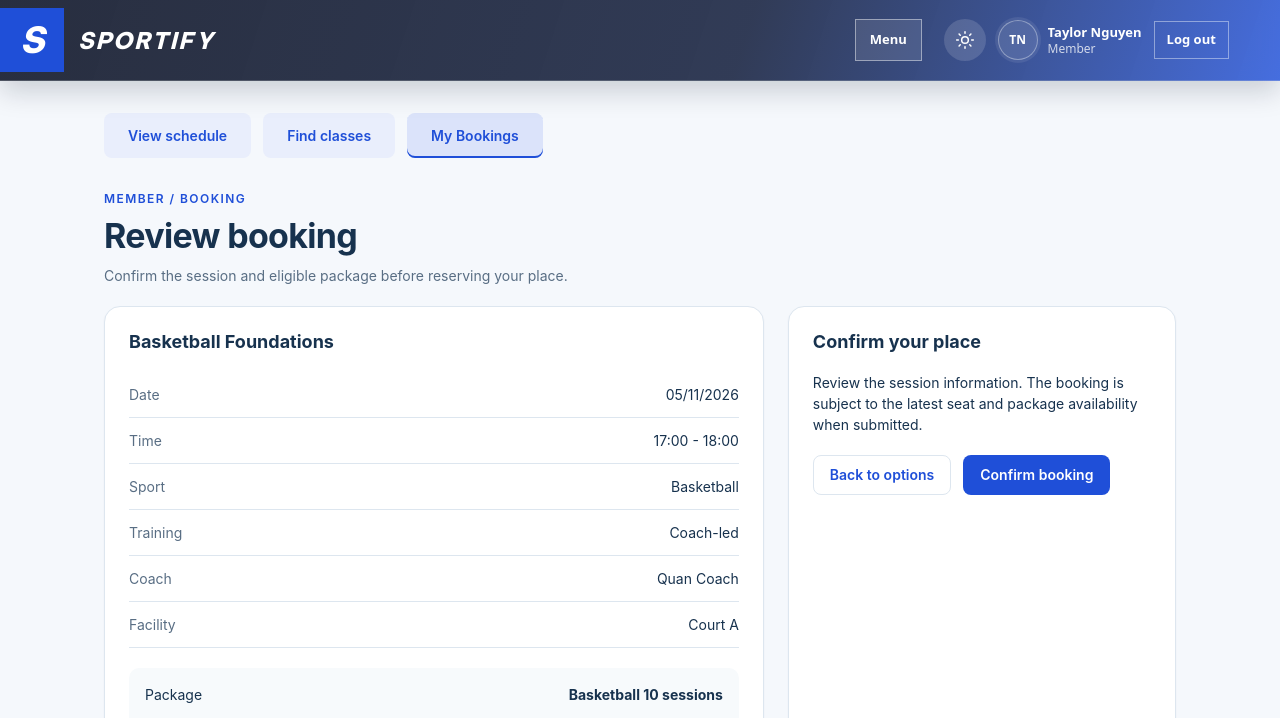
Test: FE-09 member booking screens › does not enable retry when ALREADY_BOOKED conflicts with a missing history record
Click the button "Confirm booking" at (1037, 475), box [963,455,1110,495]
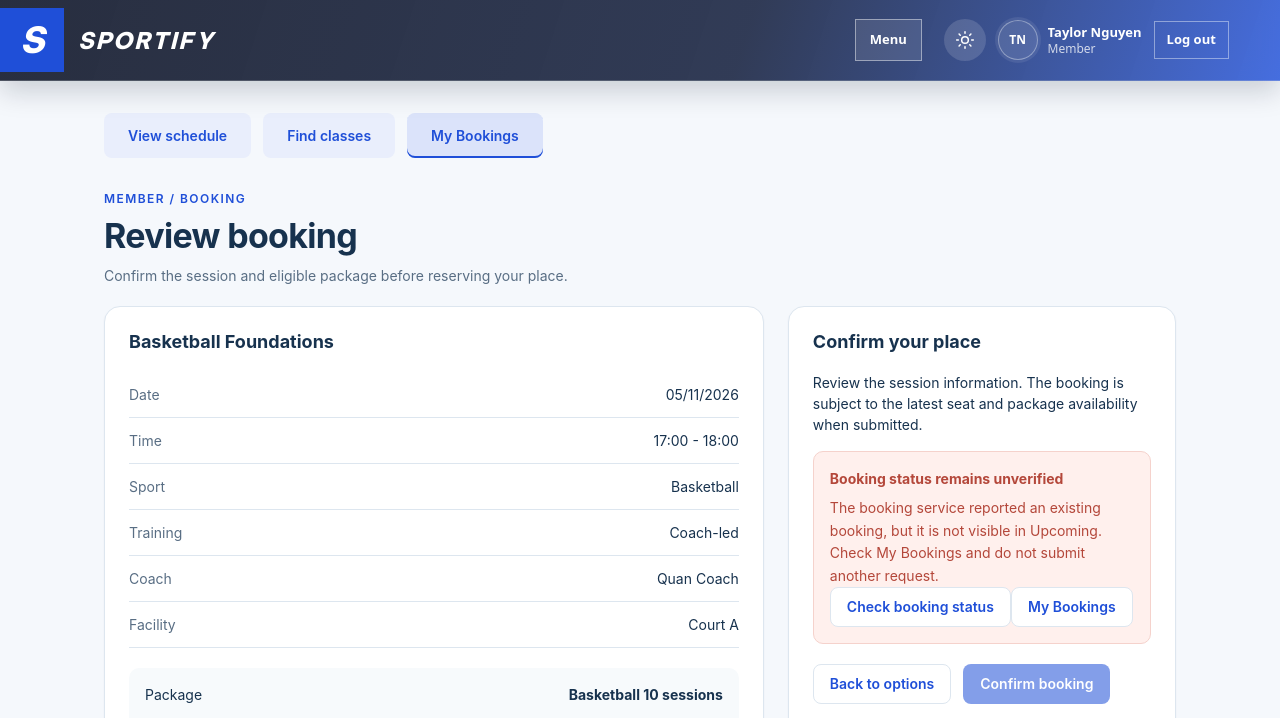
Expected: the text "reported an existing booking, but it is not visible in Upcoming" is shown, [830,499,1102,584]
Expected: the button "Confirm booking" is disabled, [963,664,1110,704]
